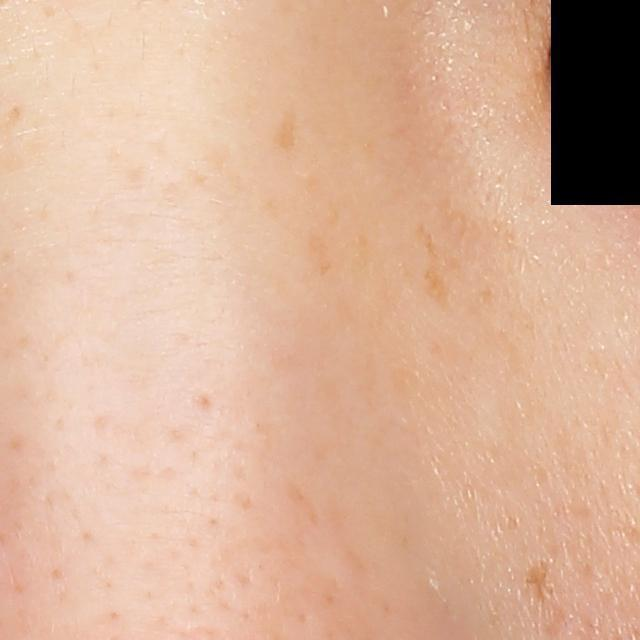melasma: (414, 219, 461, 323), (521, 555, 555, 605), (306, 229, 333, 281), (272, 103, 298, 154)
